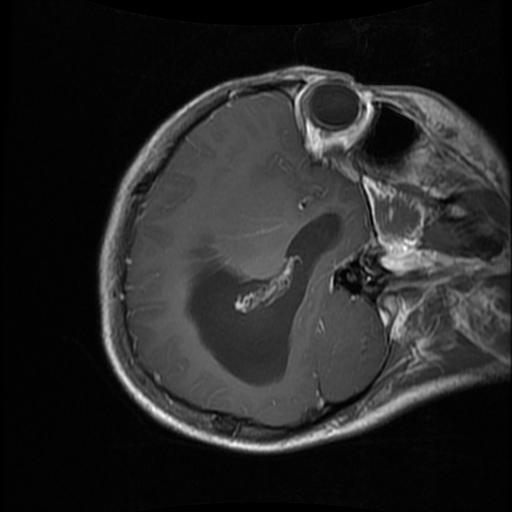glioma: (182, 210, 341, 386)
